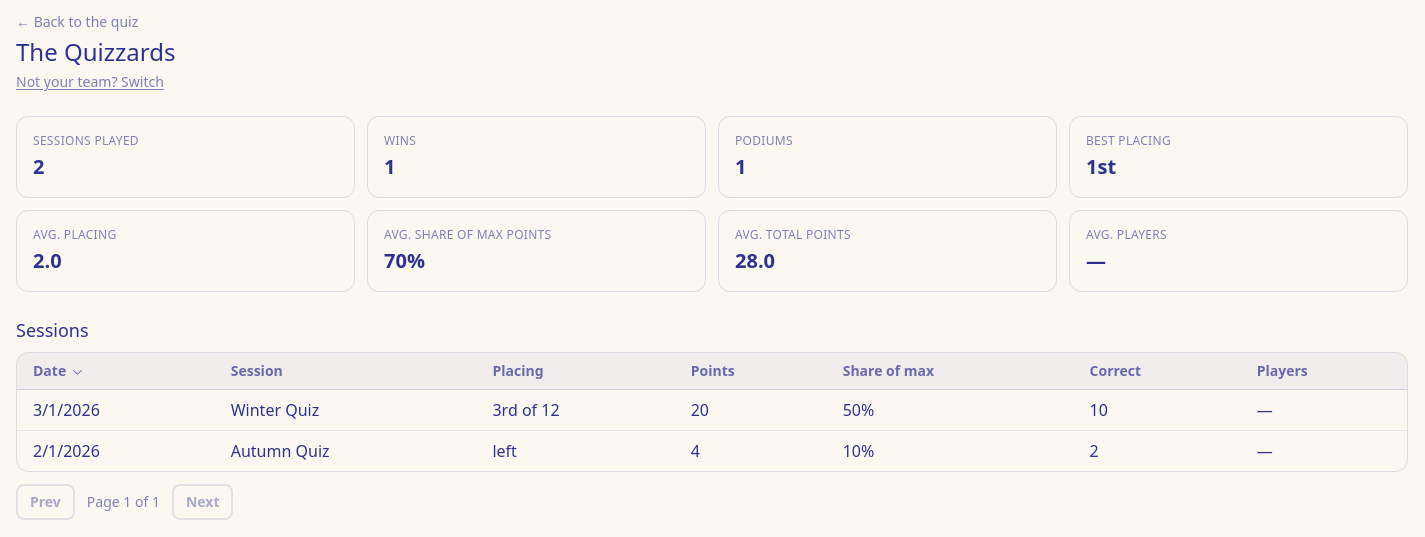
Test: TeamPagePanel › a night in detail › shows the error when the night cannot be loaded
Click the button "Winter Quiz" at coordinates (275, 410), box [231, 398, 319, 422]
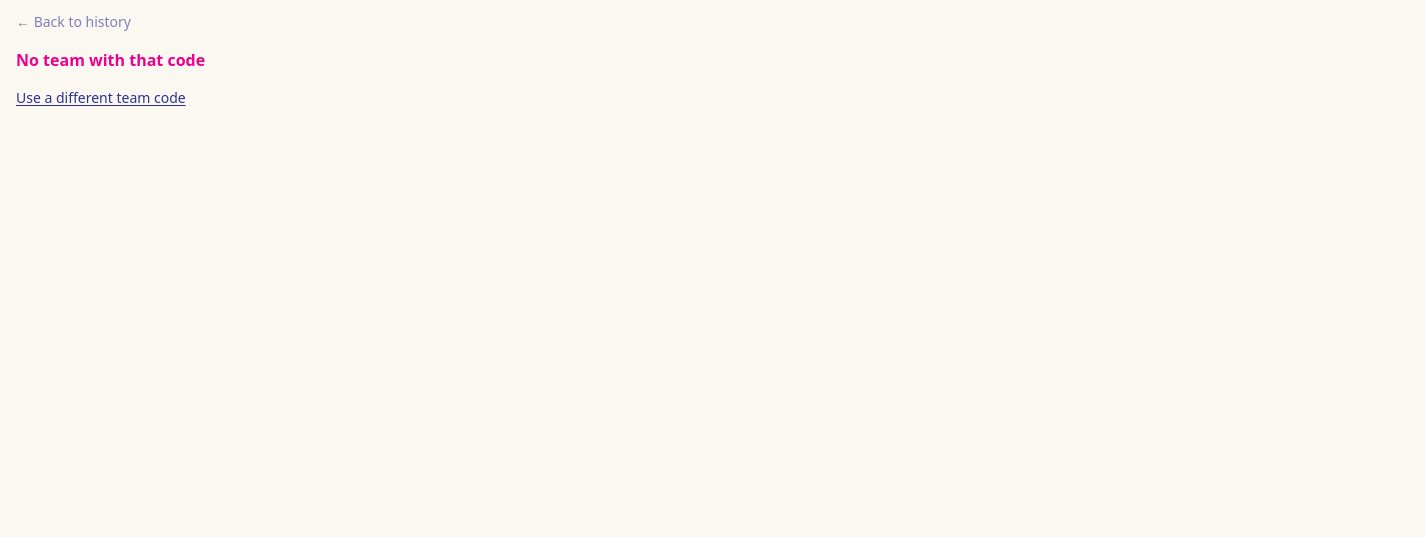
Expected: the message reads "No team with that code", [16, 49, 205, 71]
